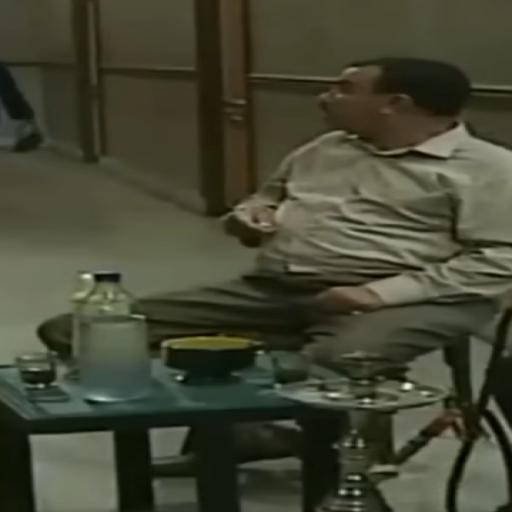slimane: (319, 57, 469, 152)
